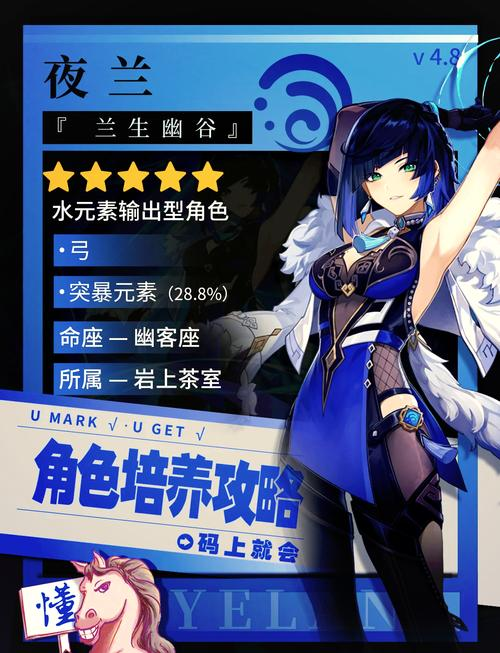夜兰: (282, 83, 500, 653)
